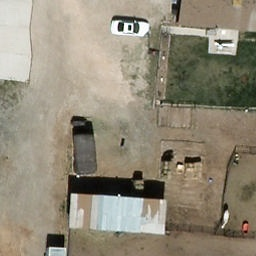car: (109, 16, 152, 37)
